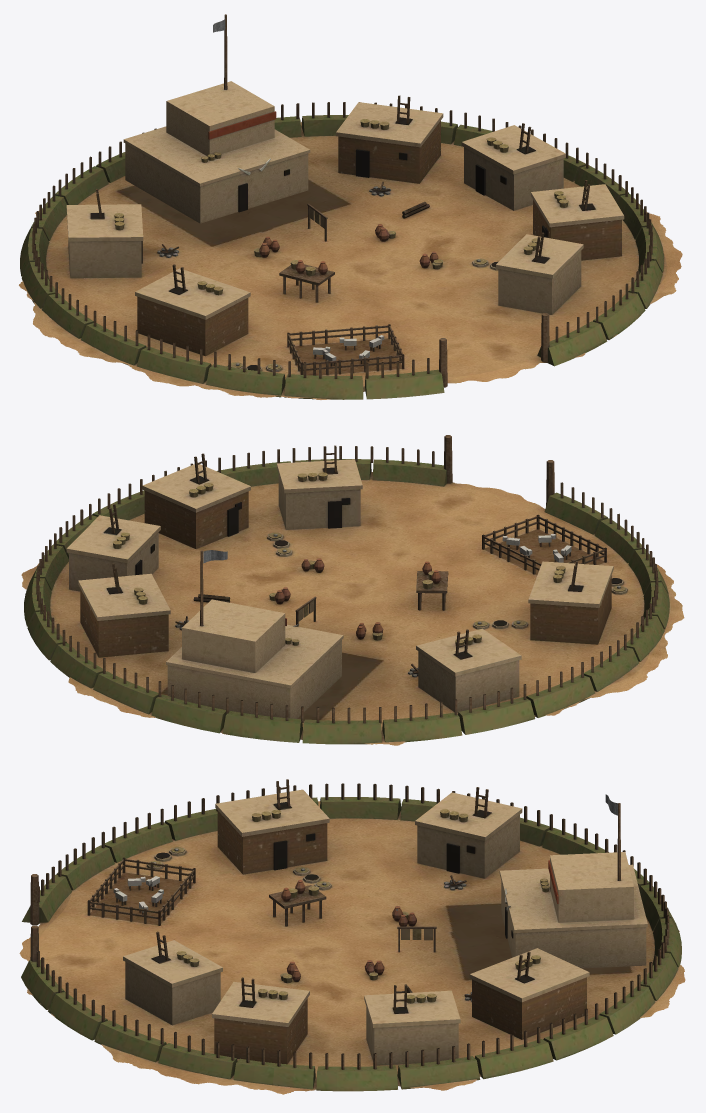
The model's file is stone-town-small-b-levant.glb.
The picture shows the model from 3 angles, top to bottom: view 1: azimuth 30°, elevation 25°; view 2: azimuth 150°, elevation 25°; view 3: azimuth 270°, elevation 25°; orthographic projection. The views are drawn at different scales.
Visible parts, largest first — view 1: LOD0; view 2: LOD0; view 3: LOD0.
Boxes of the visible parts, x1,y1,x2,y2 form: LOD0: [19, 14, 682, 399]; LOD0: [21, 435, 684, 745]; LOD0: [19, 779, 685, 1094].
Size of what is drawn, in the model's own units: 4.01 by 0.9734 by 3.82.
3 materials, 3 textured.
